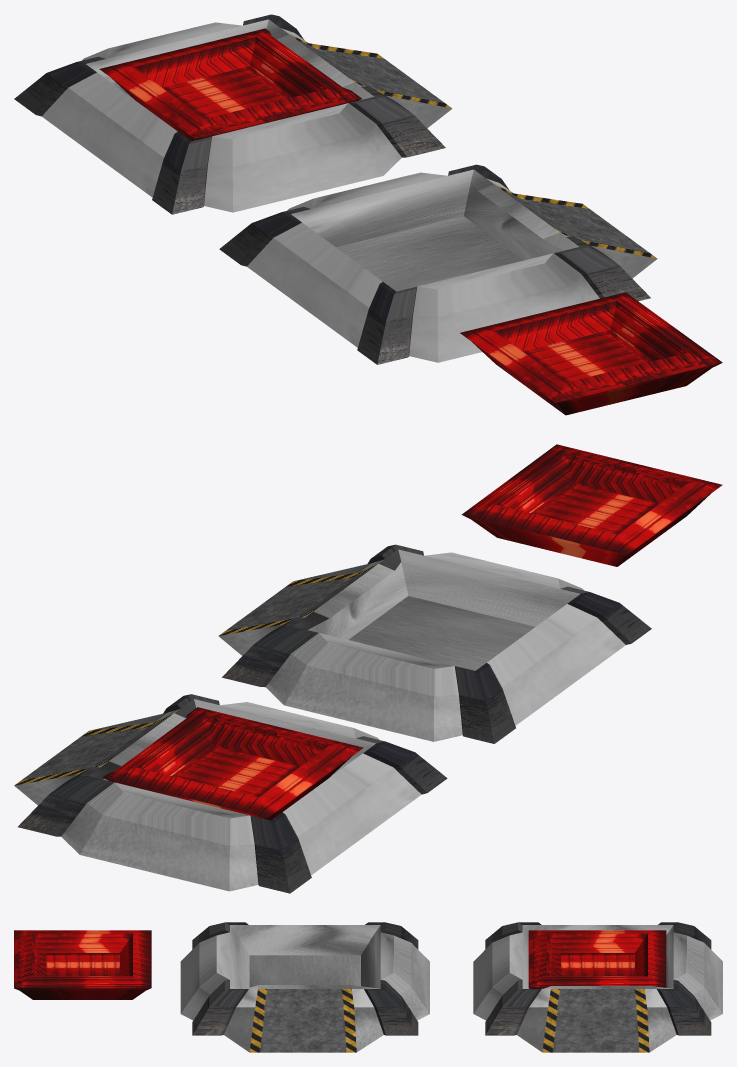
The model's file is ButtonPack.fbx.
3 renders of one model, top to bottom at view 1: azimuth 30°, elevation 25°; view 2: azimuth 150°, elevation 25°; view 3: azimuth 270°, elevation 25°, orthographic. The views are drawn at different scales.
Parts seen in each view (by area): view 1: Plane, Cube.001, Plane.001; view 2: Plane, Cube.001, Plane.001; view 3: Plane, Cube.001, Plane.001.
Part boxes in pixels (x1,y1,x2,y2): Plane: [14, 14, 452, 214]; Cube.001: [219, 164, 657, 364]; Plane.001: [460, 292, 722, 415]; Plane: [14, 694, 447, 893]; Cube.001: [218, 544, 651, 743]; Plane.001: [461, 444, 722, 566]; Plane: [473, 922, 722, 1052]; Cube.001: [180, 922, 429, 1052]; Plane.001: [14, 930, 151, 999].
Size of the model in its own units: 241 by 36.29 by 647.
